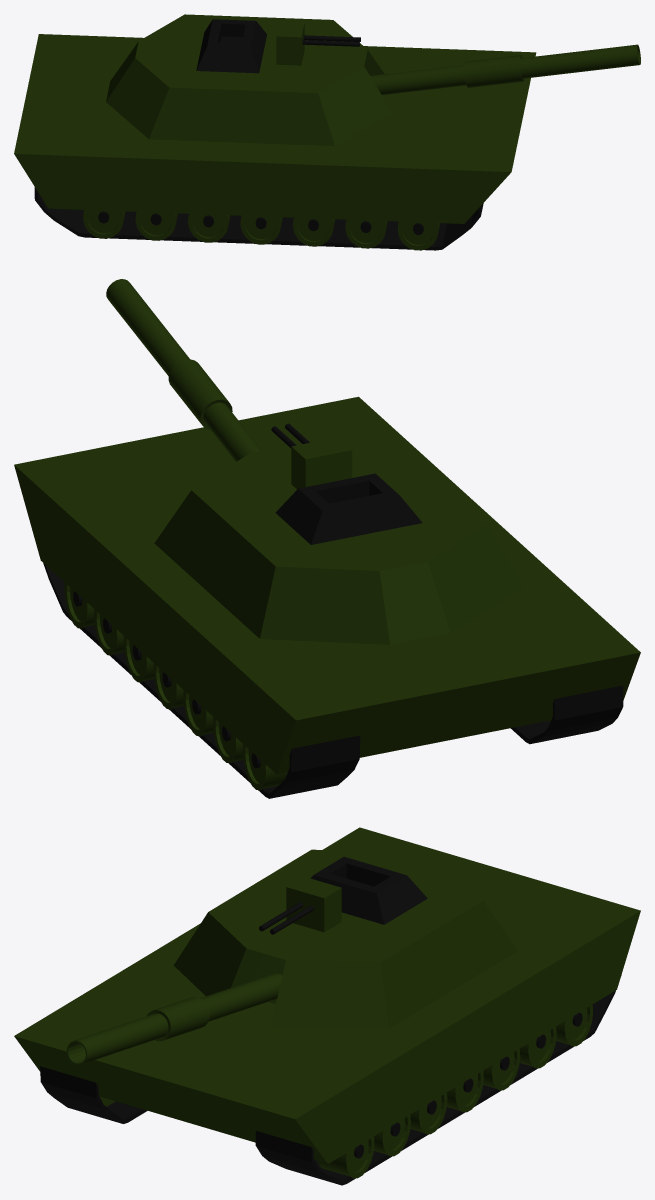
The model's file is Tank.obj.
3 views of the same model, one above another, from view 1: azimuth 30°, elevation 25°; view 2: azimuth 150°, elevation 25°; view 3: azimuth 270°, elevation 25° (orthographic). The views are drawn at different scales.
Visible parts, largest first — view 1: Box013, Box011, Cylinder058, Box009, Box012, Box010, Cylinder043, Cylinder052, Cylinder042, Cylinder057, Cylinder050, Cylinder053 (+1 smaller); view 2: Box013, Box011, Cylinder058, Box012, Box014, Box009, Box010, Cylinder039, Cylinder063, Cylinder038, Cylinder060, Cylinder066 (+2 smaller); view 3: Box013, Box011, Cylinder058, Box012, Box014, Box009, Box010, Cylinder060, Cylinder038, Cylinder066, Cylinder039, Cylinder064 (+2 smaller).
Boxes of the visible parts, x1,y1,x2,y2 form: Box013: (14,34,536,223); Box011: (106,14,396,146); Cylinder058: (370,44,640,95); Box009: (34,187,483,250); Box012: (196,19,266,73); Box010: (276,20,304,65); Cylinder043: (240,215,282,244); Cylinder052: (188,214,230,242); Cylinder042: (345,219,387,248); Cylinder057: (397,221,440,250); Cylinder050: (292,217,335,246); Cylinder053: (135,212,177,240); Box013: (14,396,640,774); Box011: (154,444,523,644); Cylinder058: (106,279,261,461); Box012: (275,473,422,544); Box014: (43,563,360,798); Box009: (510,685,623,744); Box010: (291,437,352,489); Cylinder039: (242,744,287,790); Cylinder063: (153,663,183,709); Cylinder038: (183,690,213,736); Cylinder060: (64,582,94,628); Cylinder066: (123,636,154,682); Box013: (14,827,640,1163); Box011: (173,849,517,1028); Cylinder058: (66,973,282,1065); Box012: (310,856,427,924); Box014: (255,975,621,1185); Box009: (40,1066,147,1123); Box010: (286,876,341,932); Cylinder060: (317,1136,374,1178); Cylinder038: (483,1048,520,1090); Cylinder066: (410,1092,447,1134); Cylinder039: (556,1004,592,1046); Cylinder064: (374,1115,410,1156).
Bounding box in the file's own units: 528549 × 156960 × 463533.
